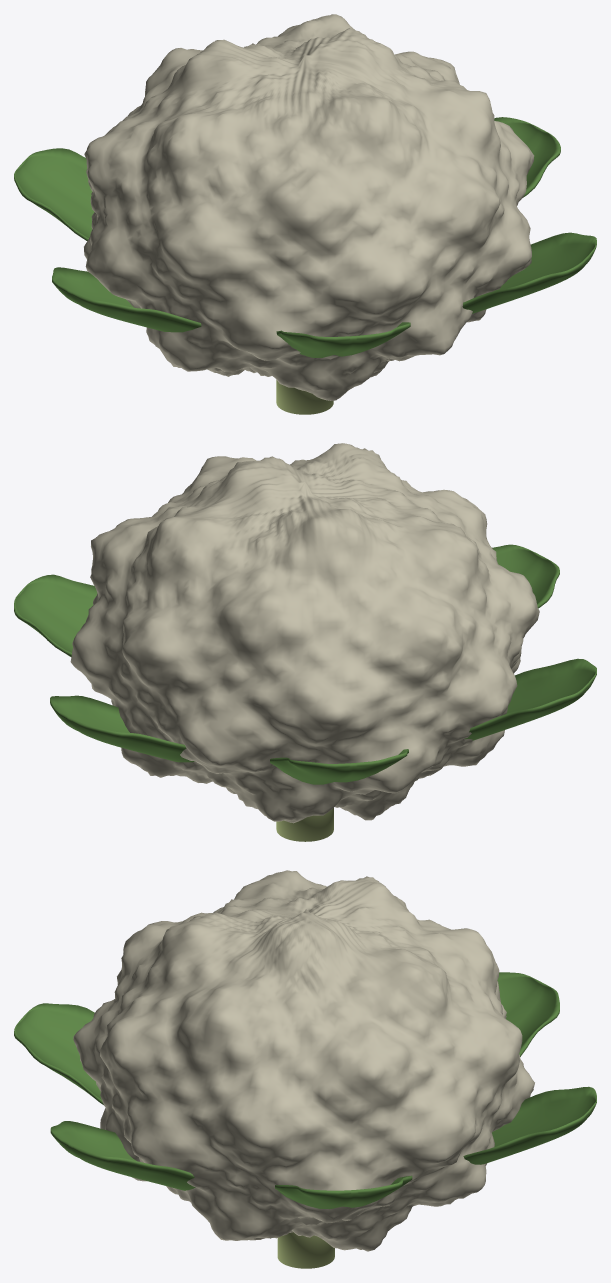
3 views of the same model, one above another, from view 1: azimuth 30°, elevation 25°; view 2: azimuth 150°, elevation 25°; view 3: azimuth 270°, elevation 25° (orthographic).
Parts seen in each view (by area): view 1: Continuous compact curd with irregular granular lobes, Cupping outer leaf 3, Cupping outer leaf 6, Cupping outer leaf 4, Cupping outer leaf 5, Cupping outer leaf 1, Cut central stalk; view 2: Continuous compact curd with irregular granular lobes, Cupping outer leaf 4, Cupping outer leaf 1, Cupping outer leaf 2, Cupping outer leaf 3, Cupping outer leaf 5, Cut central stalk; view 3: Continuous compact curd with irregular granular lobes, Cupping outer leaf 2, Cupping outer leaf 5, Cupping outer leaf 6, Cupping outer leaf 3, Cupping outer leaf 1, Cut central stalk.
Boxes of the visible parts, bbox=[...] form: Continuous compact curd with irregular granular lobes: bbox=[84, 14, 534, 400]; Cupping outer leaf 3: bbox=[14, 148, 94, 240]; Cupping outer leaf 6: bbox=[462, 232, 596, 313]; Cupping outer leaf 4: bbox=[52, 267, 201, 332]; Cupping outer leaf 5: bbox=[276, 322, 410, 357]; Cupping outer leaf 1: bbox=[494, 117, 560, 197]; Cut central stalk: bbox=[276, 380, 333, 414]; Continuous compact curd with irregular granular lobes: bbox=[70, 443, 539, 823]; Cupping outer leaf 4: bbox=[464, 658, 596, 740]; Cupping outer leaf 1: bbox=[14, 574, 97, 656]; Cupping outer leaf 2: bbox=[50, 695, 194, 762]; Cupping outer leaf 3: bbox=[270, 749, 408, 784]; Cupping outer leaf 5: bbox=[492, 544, 559, 608]; Cut central stalk: bbox=[276, 808, 333, 841]; Continuous compact curd with irregular granular lobes: bbox=[73, 870, 534, 1251]; Cupping outer leaf 2: bbox=[463, 1086, 596, 1164]; Cupping outer leaf 5: bbox=[14, 1003, 103, 1104]; Cupping outer leaf 6: bbox=[50, 1121, 195, 1190]; Cupping outer leaf 3: bbox=[497, 972, 559, 1056]; Cupping outer leaf 1: bbox=[275, 1175, 412, 1209]; Cut central stalk: bbox=[277, 1232, 334, 1268].
Bounding box in the file's own units: 0.2945 × 0.1909 × 0.2842.
